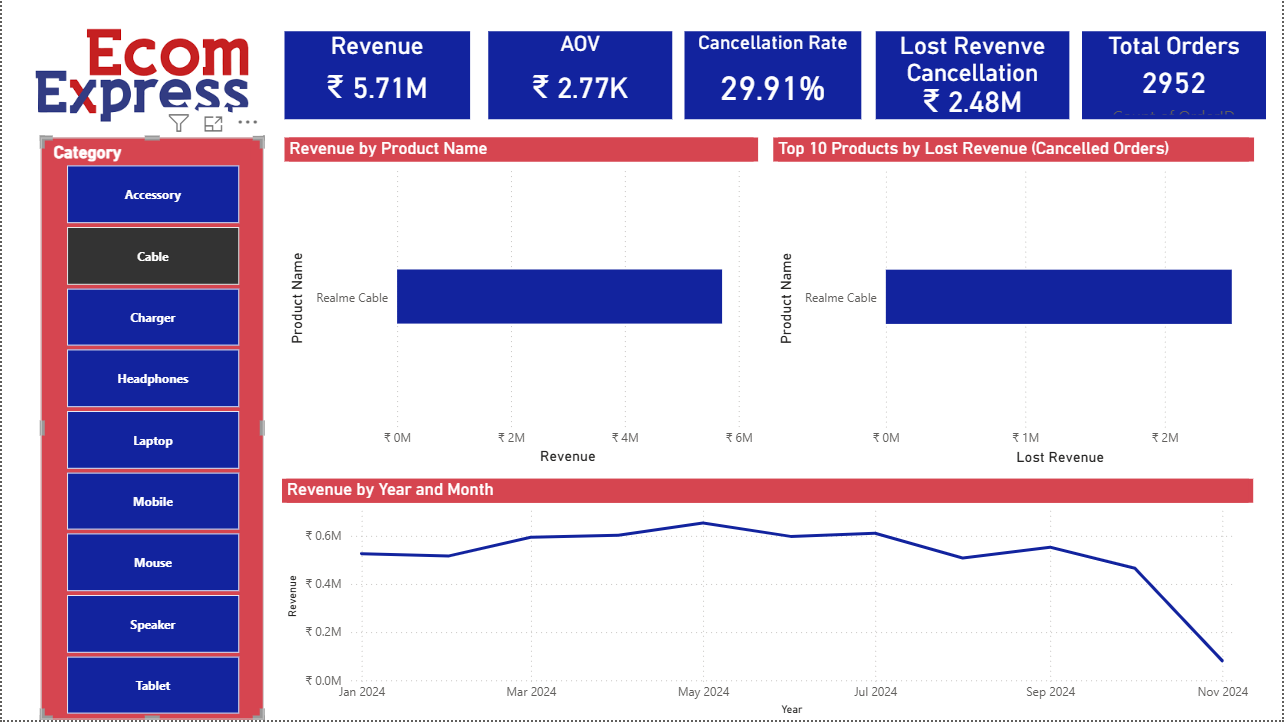

Layout of this report page (visuals, bound fields, positions):
{"tool":"powerbi","page":{"name":"Page 1","canvas":[1280,720],"ordinal":0},"visuals":[{"type":"image","box":[0,13.7,279.9,123.5],"z":0},{"type":"barChart","fields":{"Y":["table.Revenue"],"Category":["Product.Product Name"]},"box":[282.7,137.2,473.4,332.1],"z":1000},{"type":"barChart","title":"Top 10 Products by Lost Revenue (Cancelled Orders)","fields":{"Category":["Product.Product Name"],"Y":["table.lost_rev_cancellation"]},"box":[770.8,137.3,480.4,332.6],"z":2000},{"type":"lineChart","fields":{"Y":["table.Revenue"],"Category":["Orders.Date and time of purchase.Variation.Date Hierarchy.Year","Orders.Date and time of purchase.Variation.Date Hierarchy.Month"]},"box":[279.9,478.9,971.5,241.5],"z":3000},{"type":"card","title":"Revenue","fields":{"Values":["table.Revenue"]},"box":[282.7,31.6,185.2,87.8],"z":4000},{"type":"card","title":"Total Orders","fields":{"Values":["CountNonNull(Orders.OrderID)"]},"box":[1079.9,31.6,183.9,87.8],"z":5000},{"type":"card","title":"AOV","fields":{"Values":["table.AOV"]},"box":[485.8,31.6,183.9,87.8],"z":6000},{"type":"card","title":"Cancellation Rate","fields":{"Values":["table.Cancellation Rate"]},"box":[682,31.6,177,87.8],"z":7000},{"type":"card","title":"Lost Revenve Cancellation","fields":{"Values":["table.lost_rev_cancellation"]},"box":[874.1,31.6,193.5,87.8],"z":8000},{"type":"slicer","fields":{"Values":["Product.Category"]},"box":[38.4,137.2,222.3,583.2],"z":9000}]}

Visuals, with their boxes on the page's 1280x720 design canvas (x1, y1, x2, y2). These are canvas units, not pixel positions in the 1285x723 screenshot, which may show the page scaled, cropped or inside an application window:
image: (0,14,280,137)
barChart - table.Revenue x Product.Product Name: (283,137,756,469)
"Top 10 Products by Lost Revenue (Cancelled Orders)" barChart: (771,137,1251,470)
lineChart - table.Revenue x Orders.Date and time of purchase.Variation.Date Hierarchy.Year: (280,479,1251,720)
"Revenue" card: (283,32,468,119)
"Total Orders" card: (1080,32,1264,119)
"AOV" card: (486,32,670,119)
"Cancellation Rate" card: (682,32,859,119)
"Lost Revenve Cancellation" card: (874,32,1068,119)
slicer - Product.Category: (38,137,261,720)
